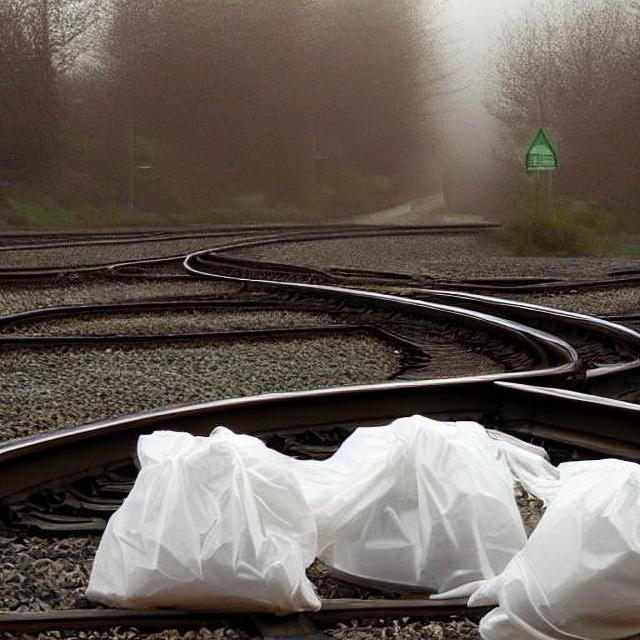plastic bag: (93, 432, 320, 606), (326, 419, 543, 589), (503, 439, 634, 640)
